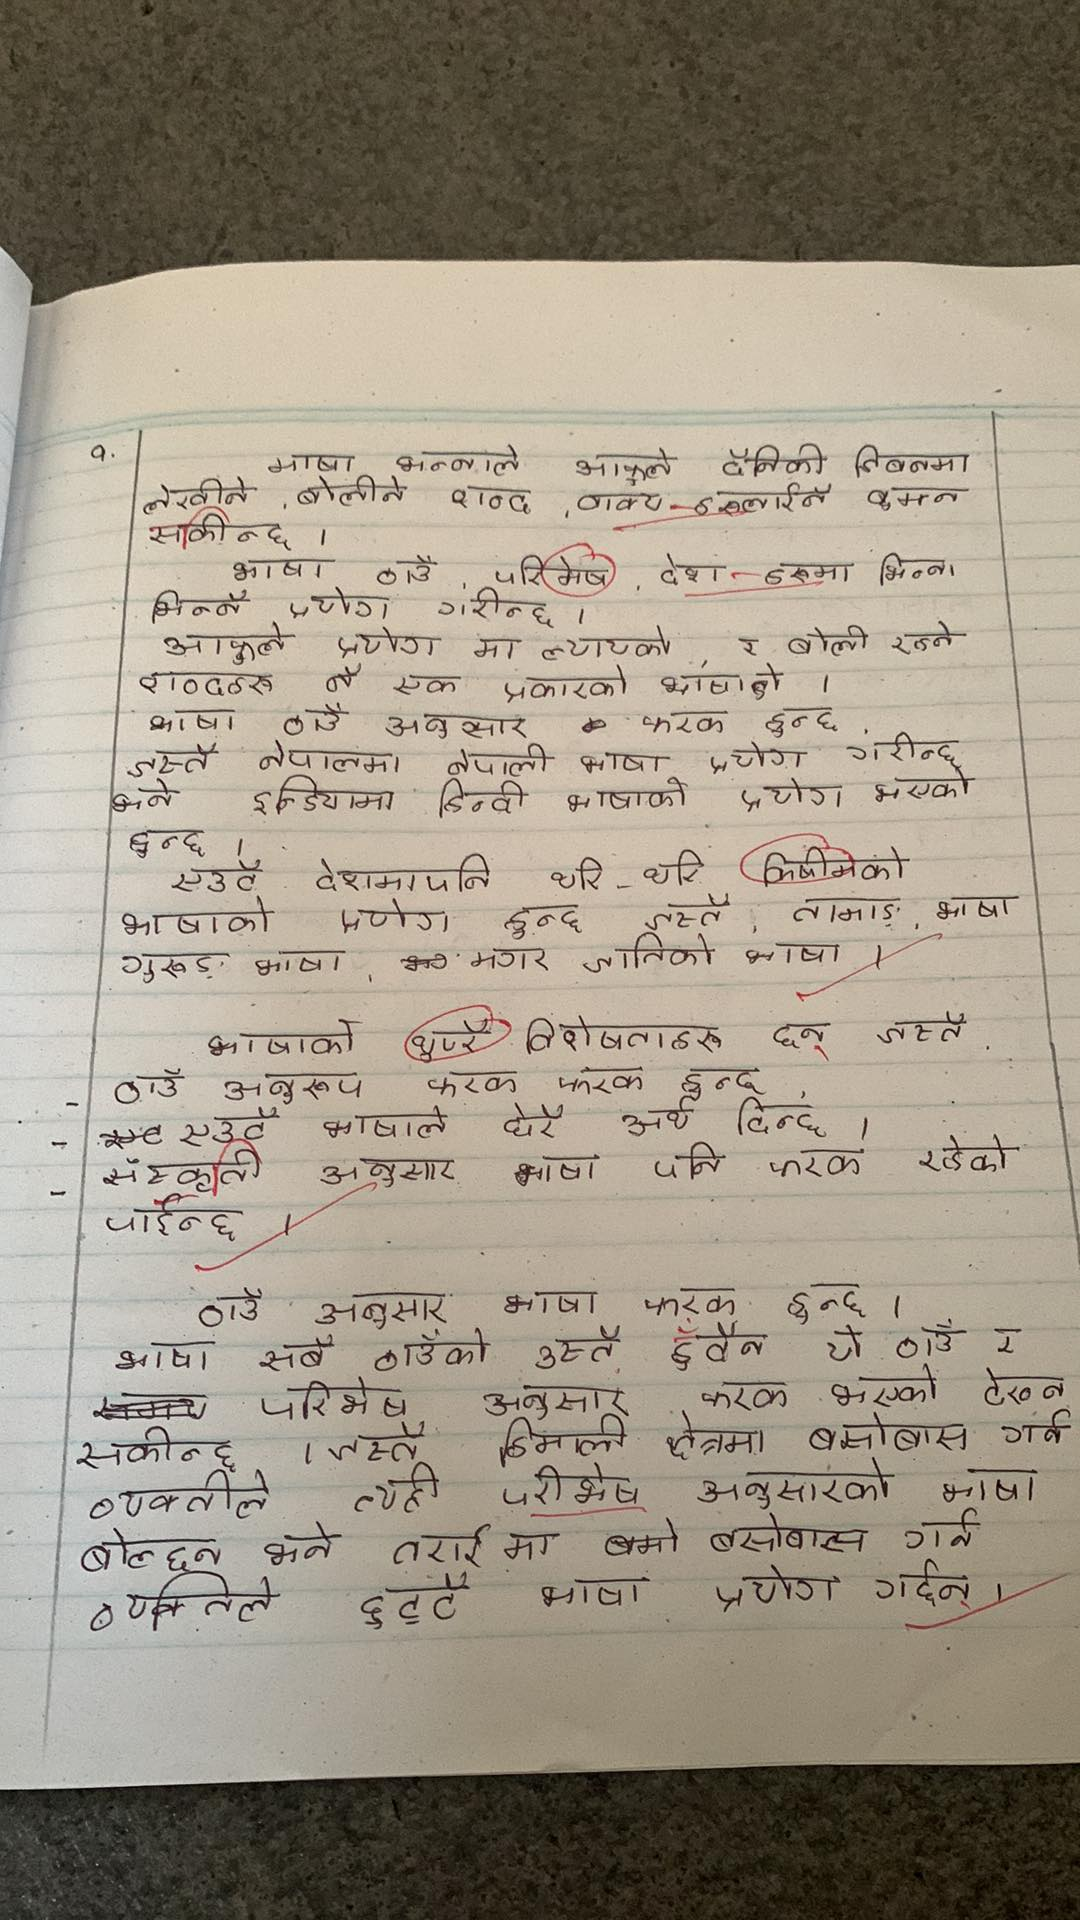text: (80, 1573, 276, 1633), (692, 1458, 895, 1515), (87, 1468, 276, 1527), (313, 851, 500, 899), (520, 1017, 728, 1059), (73, 1424, 247, 1472), (199, 1013, 356, 1063), (708, 1560, 840, 1619), (386, 1524, 560, 1569), (75, 1524, 231, 1575), (497, 1464, 641, 1516), (704, 1513, 868, 1559), (803, 1414, 973, 1457), (96, 1149, 265, 1192), (253, 1375, 407, 1423), (100, 1196, 240, 1247), (109, 899, 280, 942), (355, 1572, 472, 1633), (480, 1375, 636, 1420), (311, 1287, 455, 1333), (872, 1556, 982, 1615), (752, 847, 911, 887), (491, 1416, 632, 1461), (578, 932, 723, 976), (144, 512, 297, 553), (320, 1102, 454, 1147), (245, 779, 400, 818), (313, 1155, 462, 1195), (220, 1065, 367, 1105), (732, 769, 847, 819), (132, 665, 276, 704), (255, 740, 407, 777), (392, 438, 524, 480), (498, 665, 636, 704), (156, 629, 291, 669), (535, 626, 680, 663), (659, 1415, 769, 1464), (372, 1329, 495, 1373), (380, 708, 535, 742), (765, 1131, 869, 1182), (936, 1462, 1043, 1511), (845, 727, 961, 771), (824, 1367, 940, 1412), (691, 483, 831, 520), (115, 944, 229, 989), (492, 553, 609, 595), (328, 899, 458, 938), (848, 438, 971, 477), (320, 1424, 425, 1469), (783, 890, 905, 928), (137, 472, 253, 512), (334, 621, 439, 665), (564, 446, 676, 487), (436, 592, 560, 629), (560, 781, 694, 815), (657, 667, 789, 702), (869, 767, 978, 808), (671, 1324, 765, 1371), (431, 777, 527, 823), (916, 1131, 1013, 1178), (175, 1106, 280, 1149), (347, 1472, 444, 1516), (443, 738, 556, 777), (531, 1325, 622, 1373), (535, 1573, 647, 1611), (719, 443, 833, 480), (973, 1364, 1069, 1407), (284, 587, 396, 624), (260, 1520, 340, 1572), (729, 1096, 829, 1137), (444, 477, 533, 524), (695, 1375, 791, 1418), (783, 1280, 866, 1329), (857, 483, 967, 520), (640, 1284, 741, 1324), (166, 857, 270, 895), (645, 891, 733, 936), (108, 1338, 215, 1375), (740, 938, 848, 973), (145, 587, 248, 624), (498, 1283, 600, 1320), (141, 702, 237, 740), (289, 477, 415, 506), (897, 1511, 978, 1556), (611, 1097, 696, 1139), (649, 1137, 727, 1183), (516, 1149, 599, 1191), (123, 742, 214, 781), (874, 1011, 971, 1047), (705, 741, 814, 773), (876, 549, 957, 589), (885, 618, 967, 659), (571, 746, 667, 781), (425, 1064, 521, 1098), (119, 824, 211, 860), (675, 1065, 767, 1101), (224, 555, 331, 585), (111, 1065, 187, 1108), (785, 622, 872, 659), (761, 704, 848, 741), (498, 903, 585, 940), (193, 1287, 266, 1331), (571, 485, 671, 517), (891, 1320, 964, 1364), (553, 1068, 651, 1100), (501, 1101, 572, 1145), (927, 889, 1013, 924), (252, 947, 347, 978), (255, 1333, 332, 1371), (767, 1021, 833, 1065), (996, 1408, 1065, 1449), (640, 705, 729, 737), (463, 943, 553, 975), (641, 848, 709, 887), (655, 553, 721, 593), (760, 560, 852, 589), (280, 702, 352, 738), (545, 855, 612, 893), (262, 451, 357, 477), (111, 781, 177, 818), (373, 553, 443, 587), (389, 669, 458, 700), (820, 1324, 861, 1369), (472, 632, 517, 665), (988, 1324, 1033, 1357), (320, 663, 363, 698), (732, 632, 764, 659)
